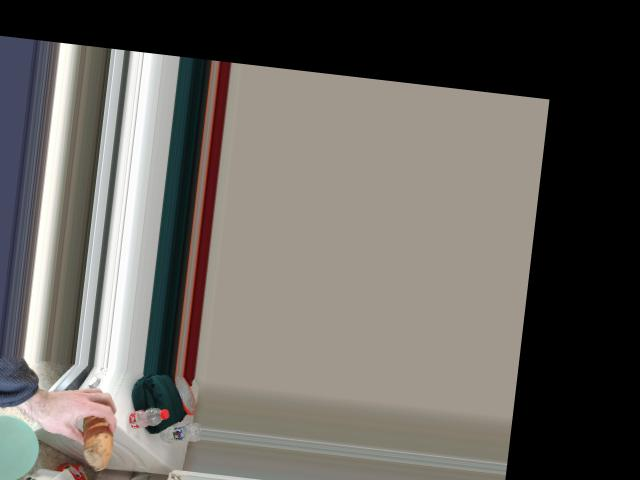sweet_potato: (64, 399, 112, 455)
